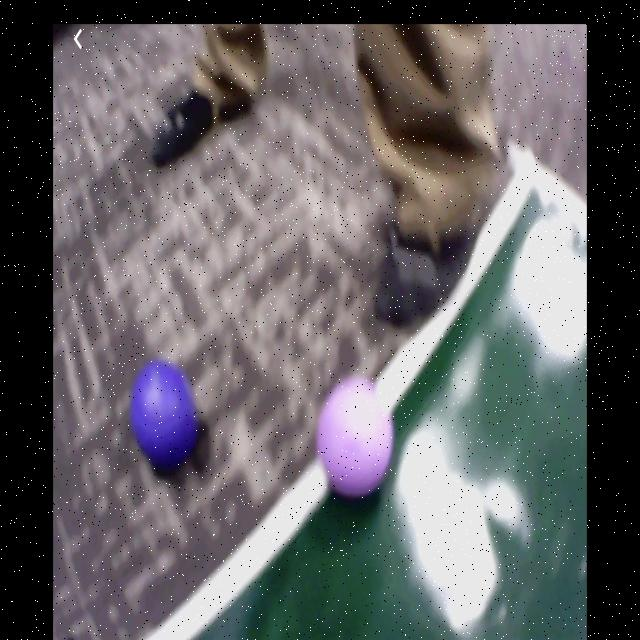ball: (318, 380, 396, 492), (132, 364, 199, 465)
